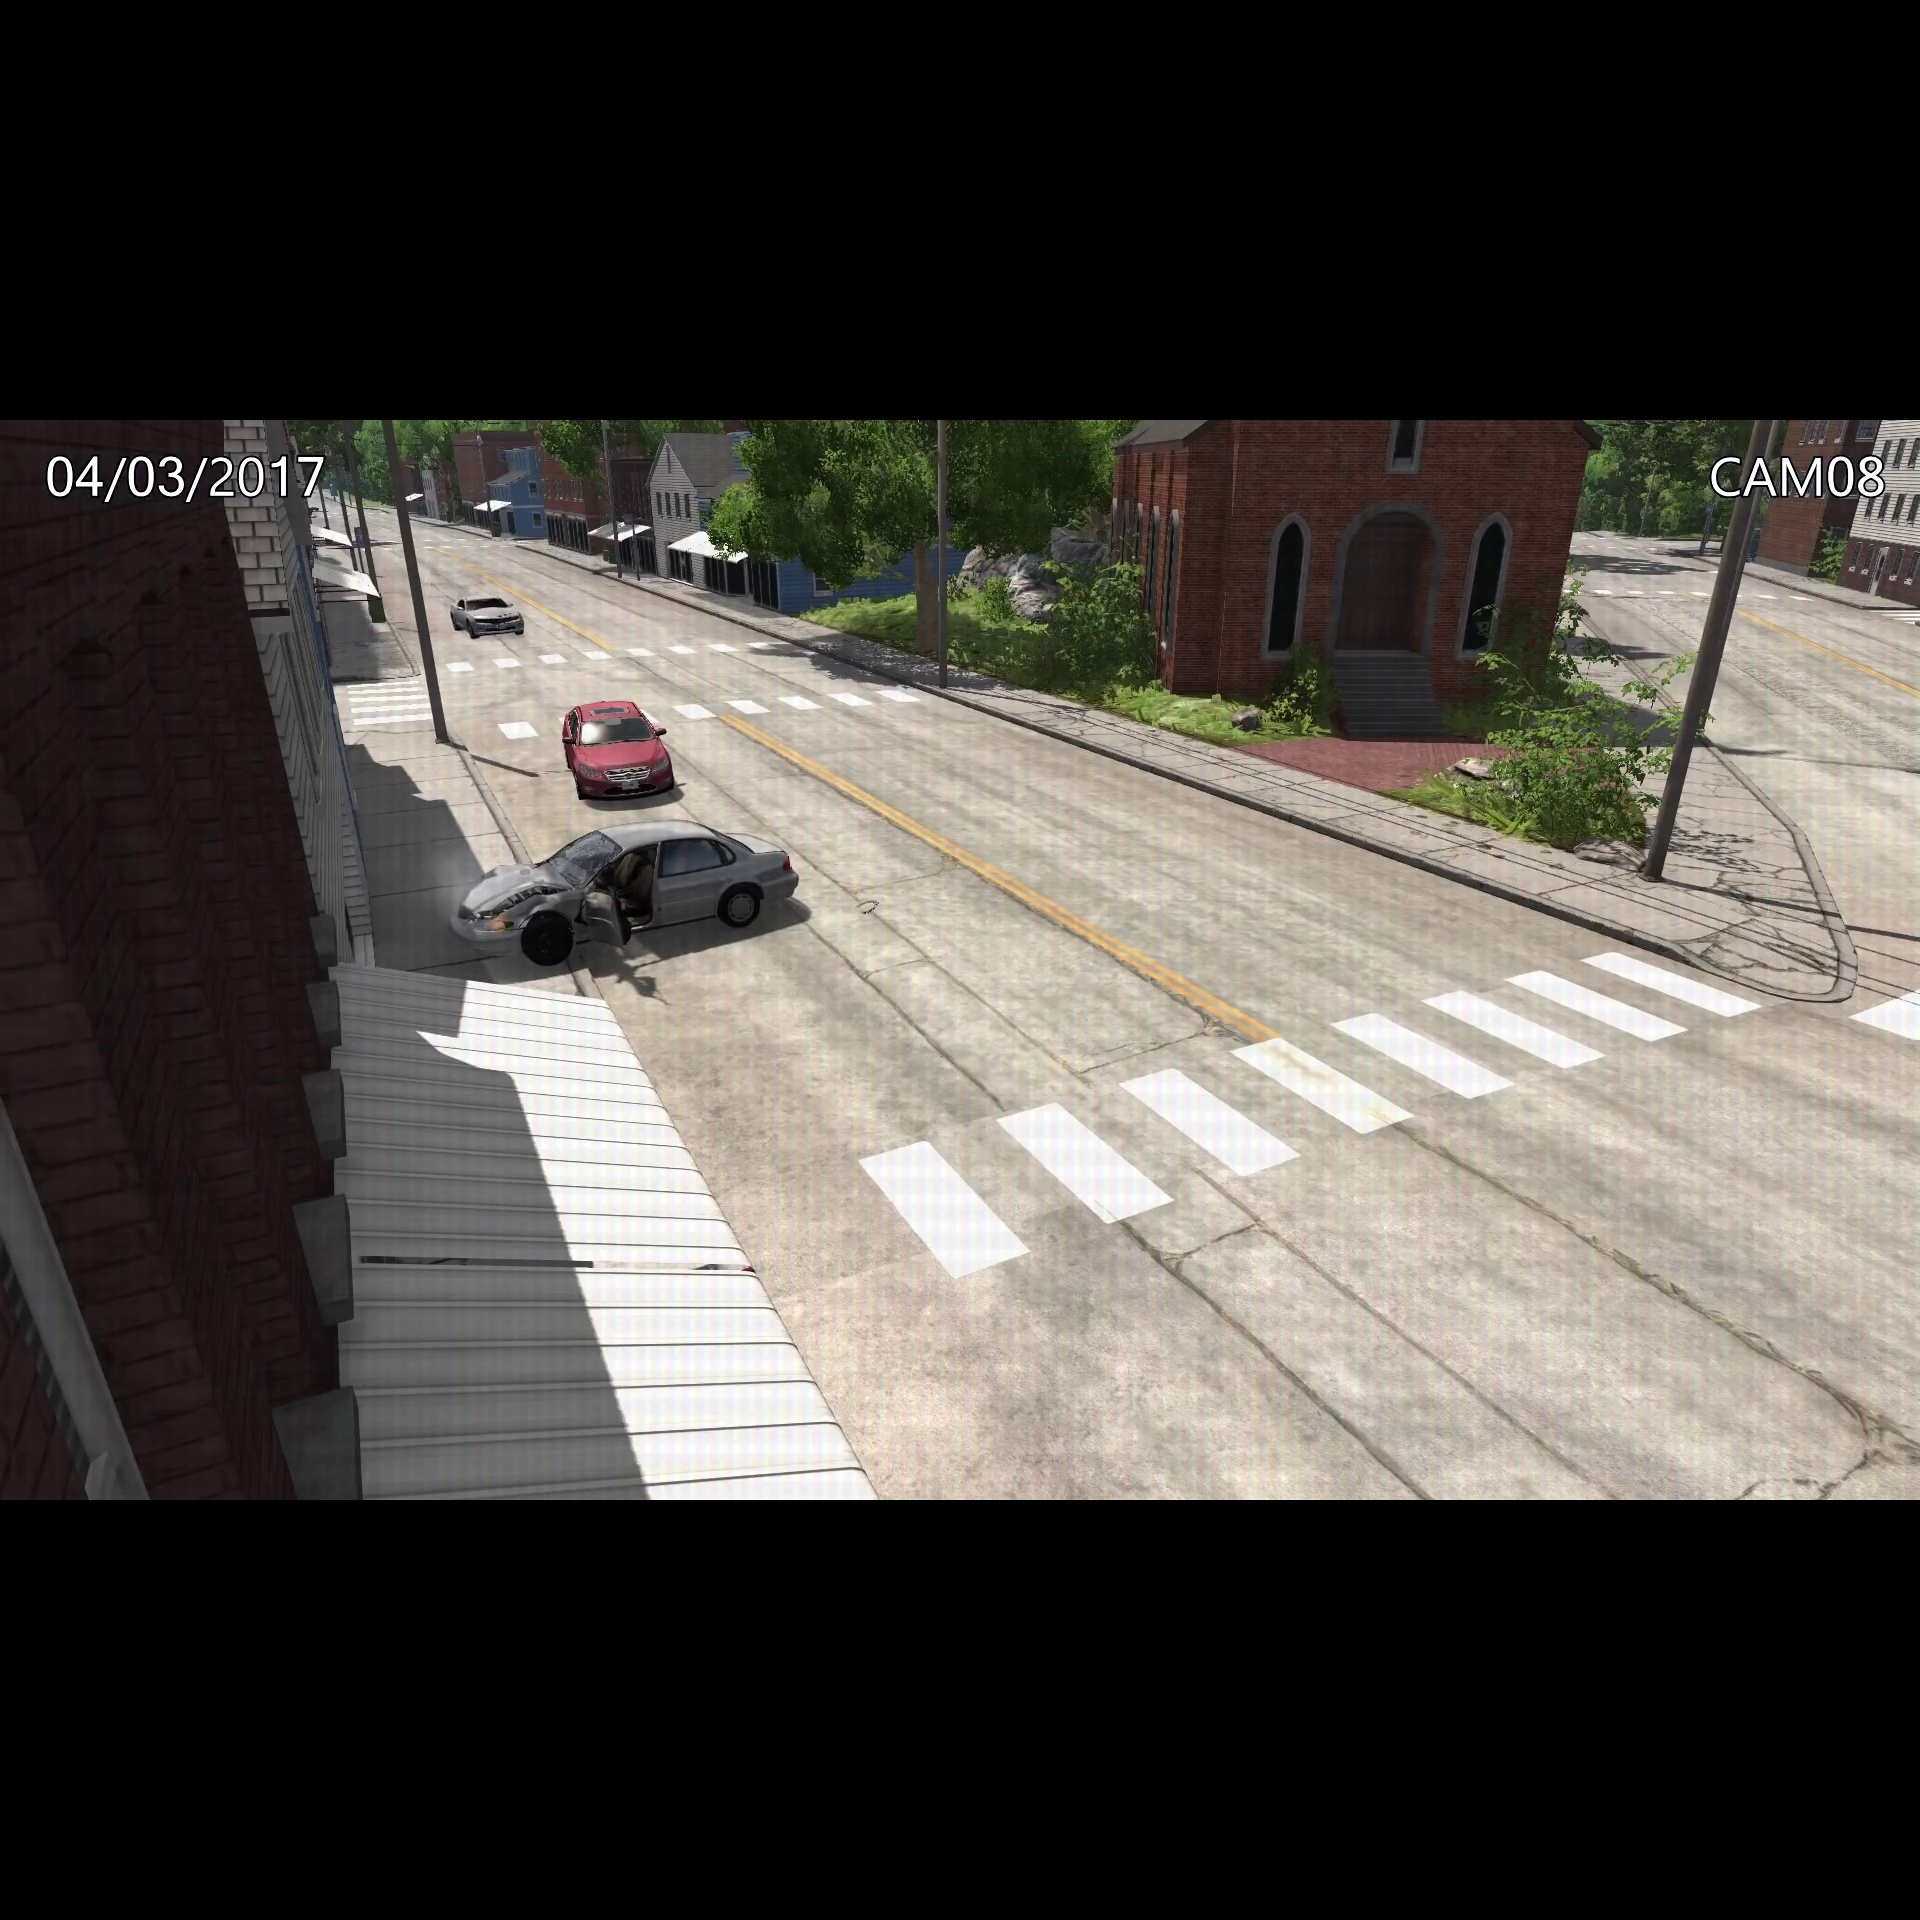vehicle: (441, 811, 811, 976), (554, 695, 682, 811), (441, 584, 531, 642)
